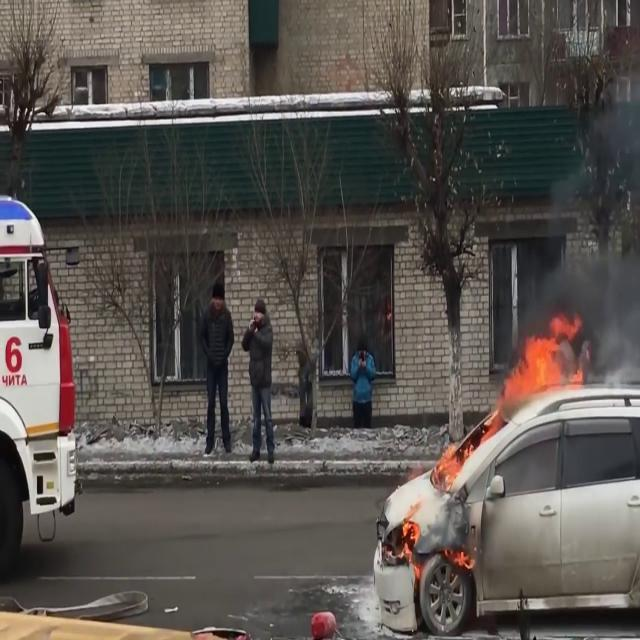Fire: (494, 318, 588, 414), (434, 439, 471, 493), (396, 512, 428, 564)
Smoke: (524, 7, 640, 386)
